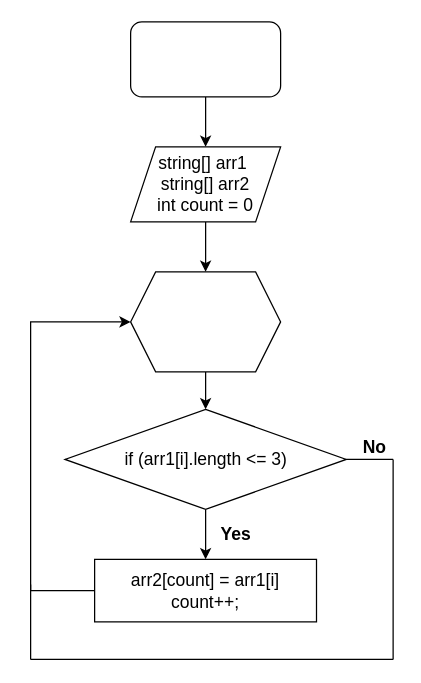
The diagram is 421 pixels wide and 683 high, and some of its shapes have lost their labels. Here are the shapes that lost their labels. From the top down, the centre of each, then its label:
At point (205, 59): "CreateNewArray".
At point (205, 321): "for (int i = 0; i < arr1.length; i++)".
